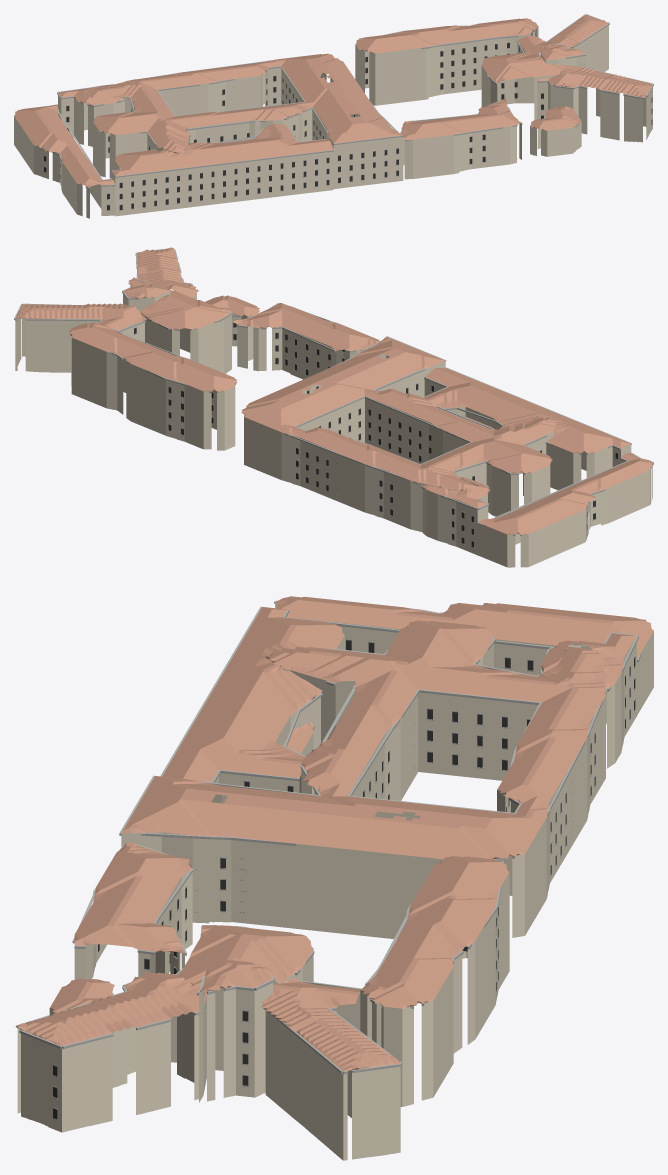
The model's file is murate.glb.
3 renders of one model, top to bottom at view 1: azimuth 30°, elevation 25°; view 2: azimuth 150°, elevation 25°; view 3: azimuth 270°, elevation 25°, orthographic. The views are drawn at different scales.
Visible parts, largest first — view 1: murate@1424-99999.plaster, murate@1424-99999.roof_m, murate@1424-99999.serena, murate@1424-99999.dark; view 2: murate@1424-99999.plaster, murate@1424-99999.roof_m, murate@1424-99999.serena, murate@1424-99999.dark; view 3: murate@1424-99999.roof_m, murate@1424-99999.plaster, murate@1424-99999.serena, murate@1424-99999.dark.
Part boxes in pixels (x1,y1,x2,y2): murate@1424-99999.plaster: (14,25,652,218); murate@1424-99999.roof_m: (14,14,652,187); murate@1424-99999.serena: (38,14,653,210); murate@1424-99999.dark: (44,43,652,210); murate@1424-99999.plaster: (15,268,652,567); murate@1424-99999.roof_m: (15,247,652,534); murate@1424-99999.serena: (14,248,653,548); murate@1424-99999.dark: (134,322,617,547); murate@1424-99999.roof_m: (15,596,653,1071); murate@1424-99999.plaster: (17,602,653,1160); murate@1424-99999.serena: (16,600,640,1120); murate@1424-99999.dark: (53,640,635,1119).
Size of the model in its own units: 190 by 22.48 by 99.92.
